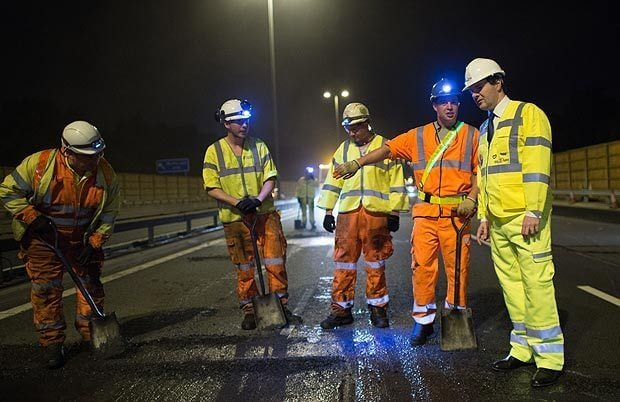blue: (429, 78, 463, 124)
white: (56, 118, 106, 173), (464, 57, 505, 112), (217, 95, 254, 139), (340, 98, 374, 141)
